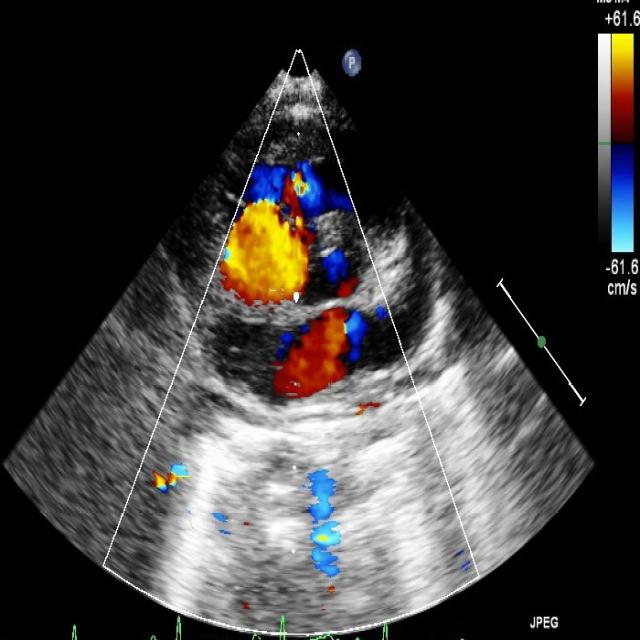VSDType2: (215, 164, 311, 402)
